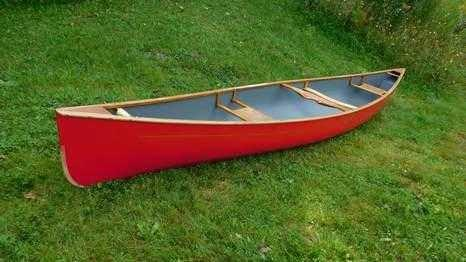kayak: (54, 66, 405, 189)
